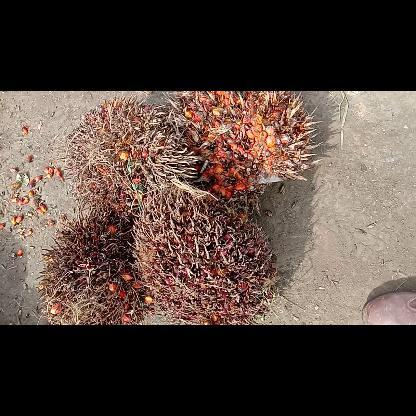Terlalu masak: (126, 186, 278, 324), (57, 93, 197, 221), (176, 91, 322, 201), (35, 206, 154, 324)
